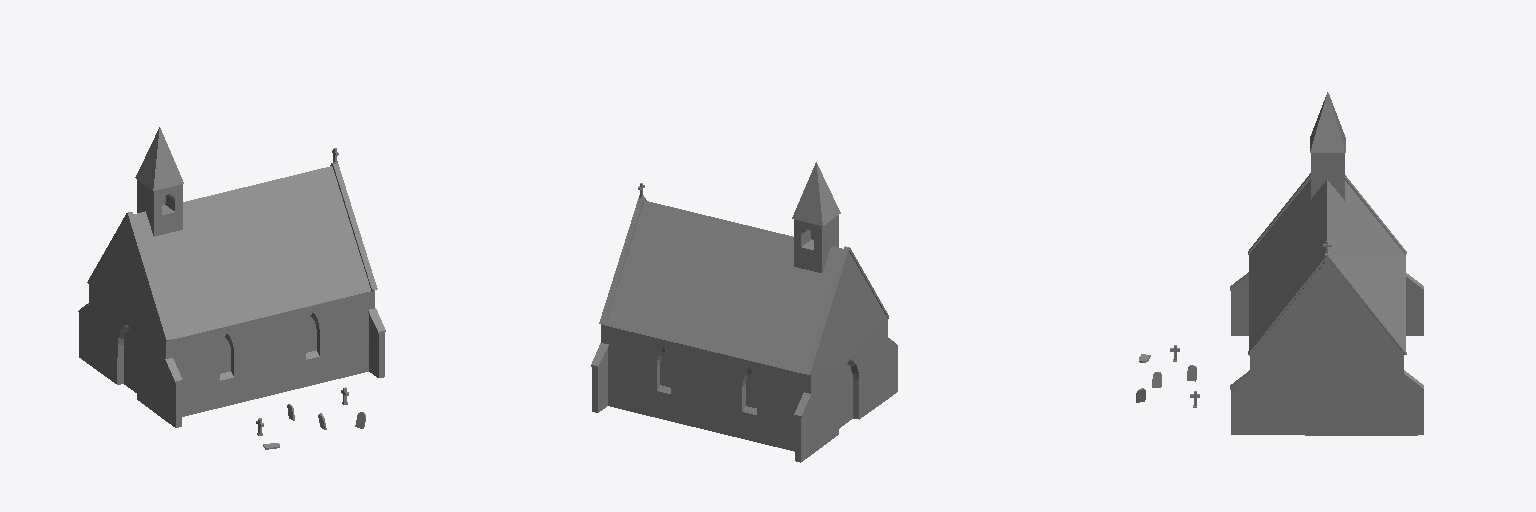
The model's file is Iglesia.obj.
3 views of the same model, side by side, from view 1: azimuth 30°, elevation 25°; view 2: azimuth 150°, elevation 25°; view 3: azimuth 270°, elevation 25° (orthographic).
Visible parts, largest first — view 1: Chapel; view 2: Chapel; view 3: Chapel.
Part boxes in pixels (left/top/right/bottom): Chapel: left=78, top=127, right=385, bottom=449; Chapel: left=591, top=162, right=897, bottom=462; Chapel: left=1136, top=92, right=1423, bottom=435.
Size of the model in its own units: 1157 by 1357 by 1367.